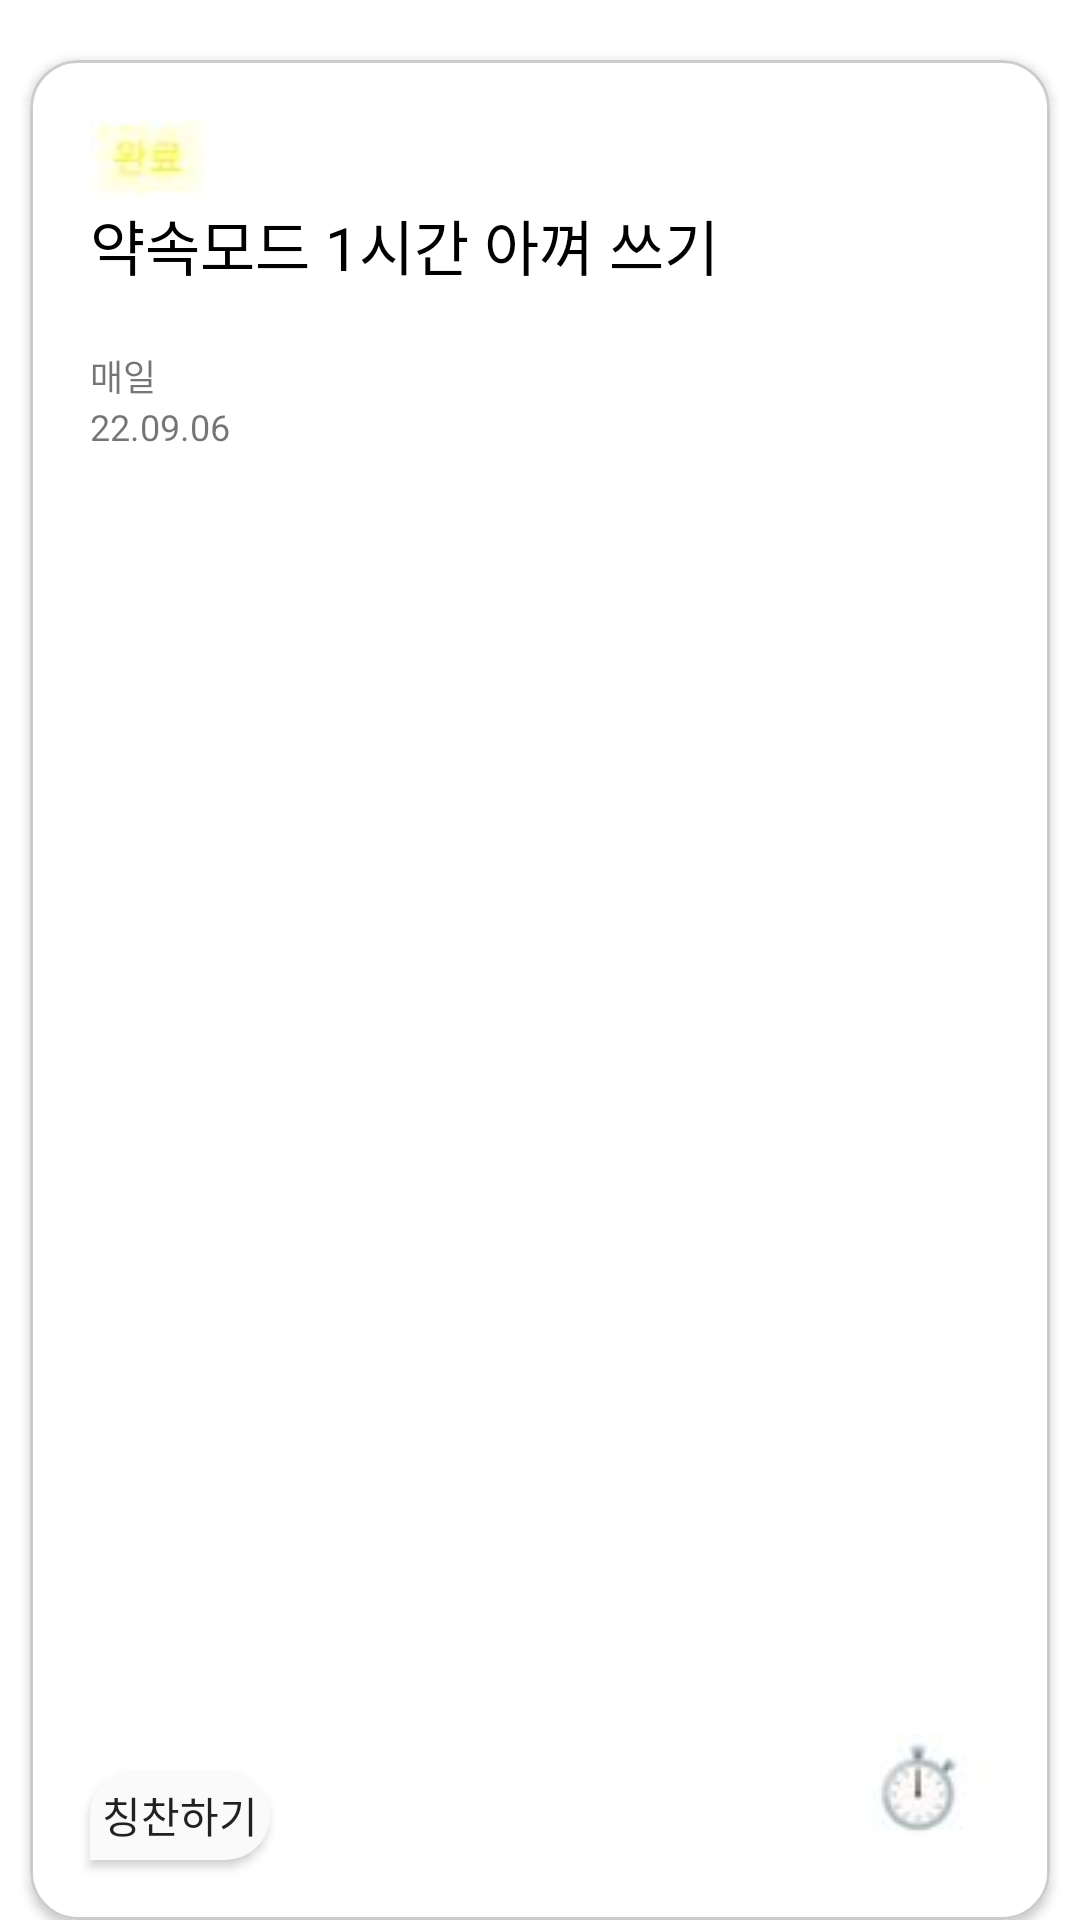

Named icons in this screenshot (1080 x 1920) and their centers, [x,y]:
time: [919,1788]
